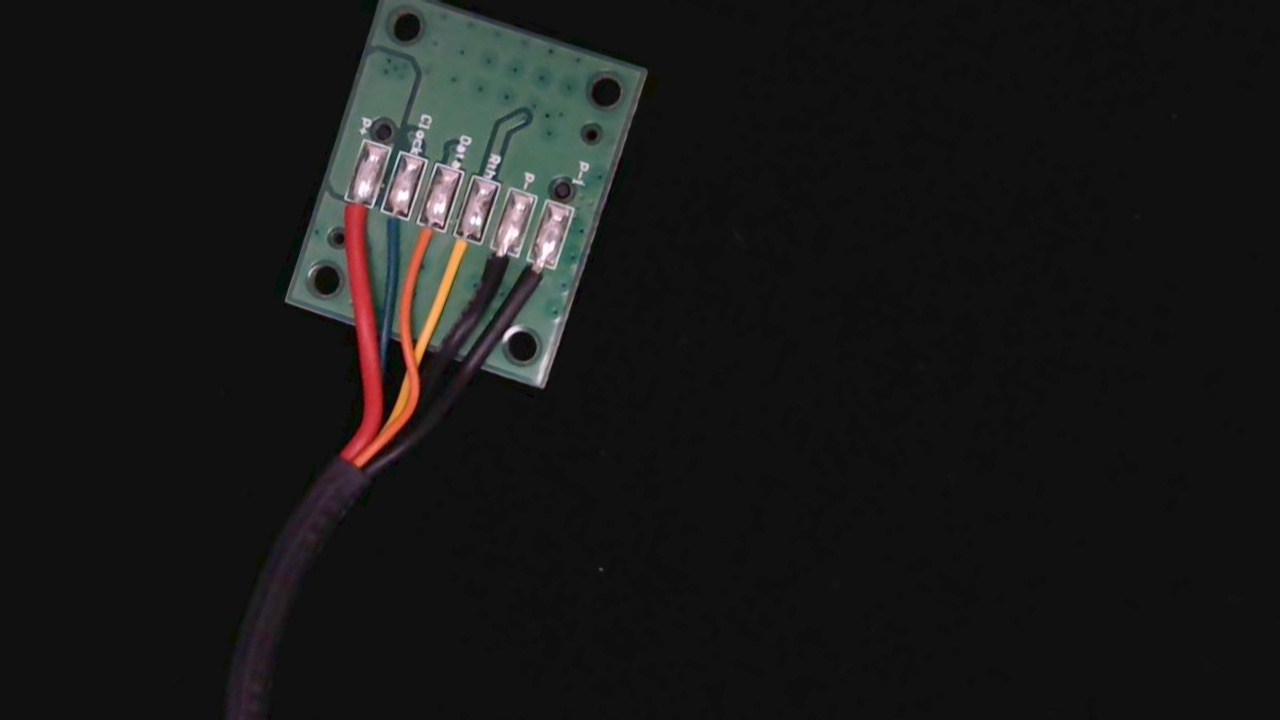Black: (466, 230, 523, 310)
Black1: (507, 245, 561, 319)
Green: (360, 194, 416, 271)
Orange: (394, 205, 449, 284)
Red: (325, 181, 381, 258)
Yellow: (429, 218, 486, 300)
